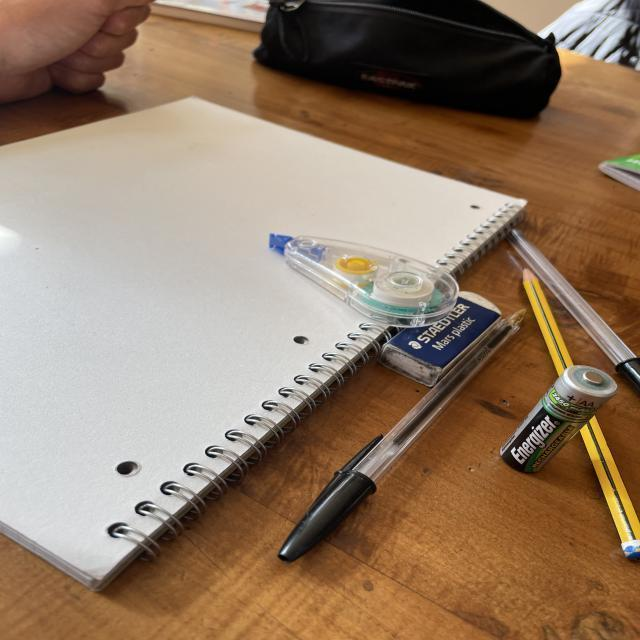Hazard: (498, 362, 622, 478)
